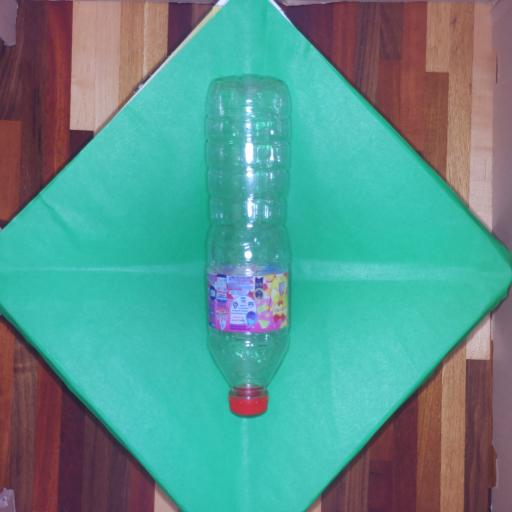bottle: (204, 76, 290, 418)
